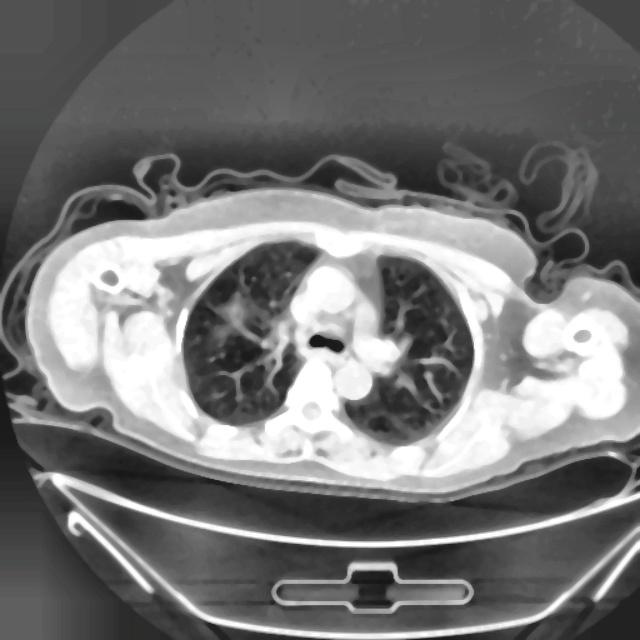covid: (12, 147, 638, 504)
